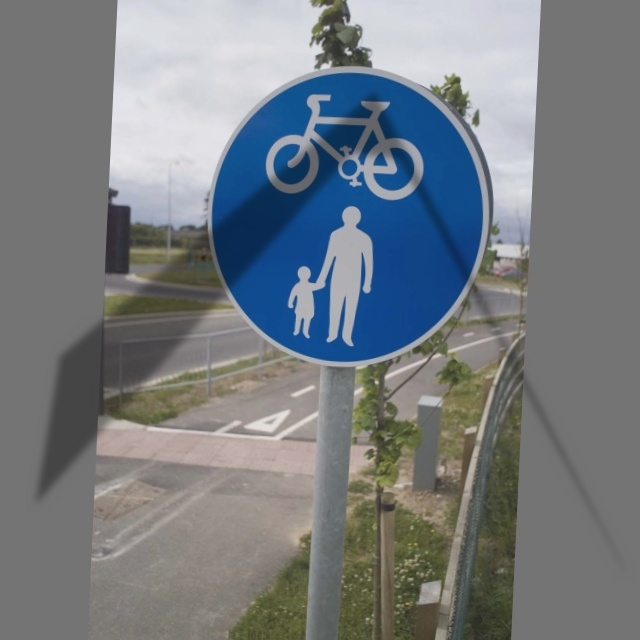Compulsory_Cycle_Track: (209, 59, 499, 360)
